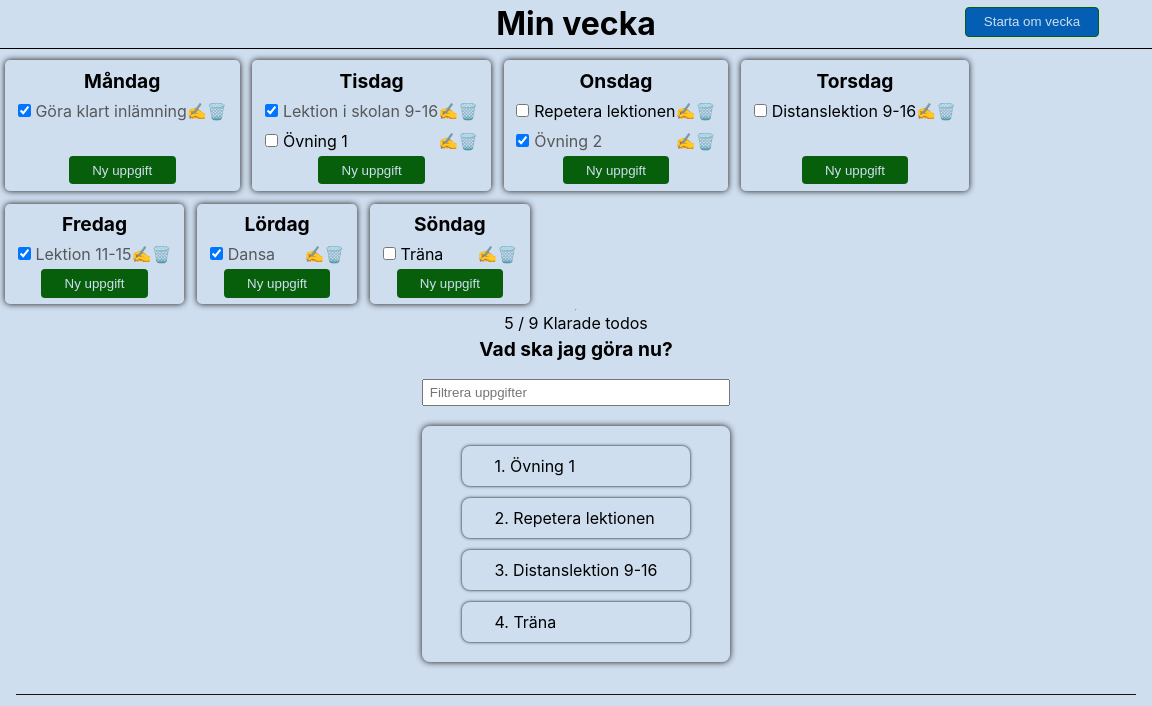
Test: delete btn, and change todo › can i delete a todo
This screenshot has width=1152, height=706.
Click the text with test id "delete" next to "Göra klart inlämning" at (217, 111), box [207, 101, 227, 121]
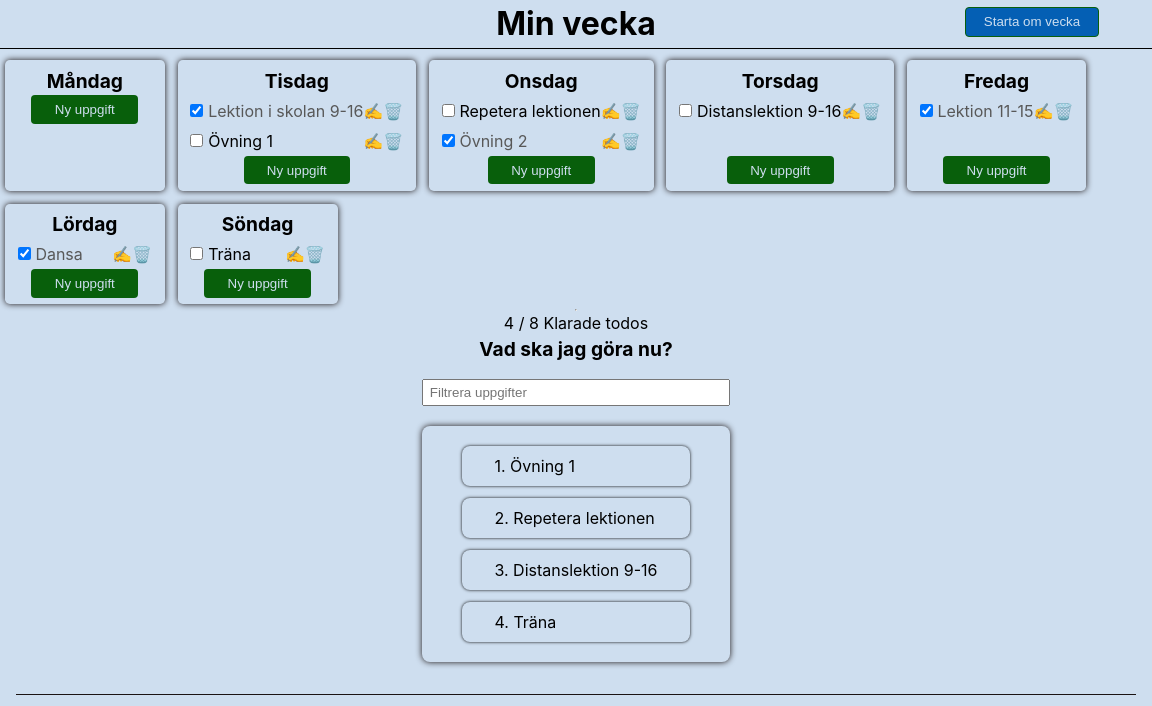
Check: the number of elements with test id "delete" is 8
